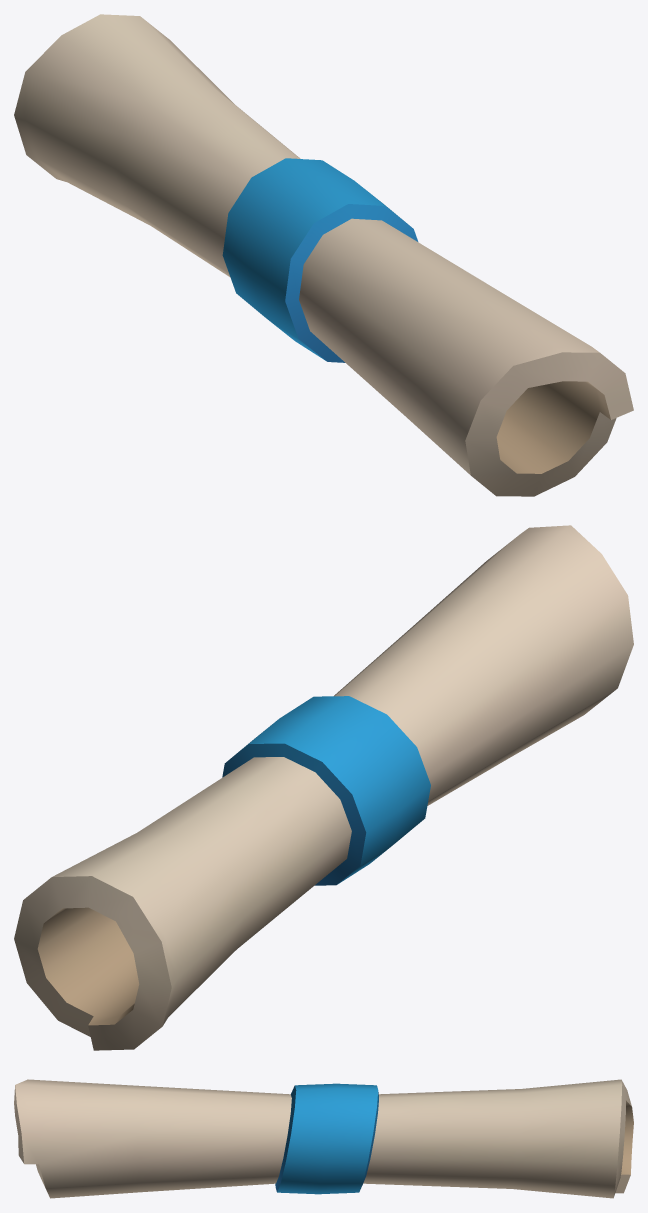
The model's file is map_rolled.glb.
3 views of the same model, one above another, from view 1: azimuth 30°, elevation 25°; view 2: azimuth 150°, elevation 25°; view 3: azimuth 270°, elevation 25° (orthographic). The views are drawn at different scales.
Parts seen in each view (by area): view 1: map_rolled; view 2: map_rolled; view 3: map_rolled.
Part boxes in pixels (box(x1,y1,x2,y2)): map_rolled: box(14, 14, 633, 496); map_rolled: box(14, 525, 633, 1050); map_rolled: box(14, 1079, 633, 1198).
Size of the model in its own units: 0.2397 by 0.2381 by 1.22.
1 material, 1 textured.
